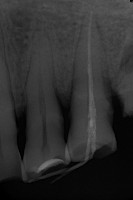Furcation Involvement: (119, 41, 133, 69)
